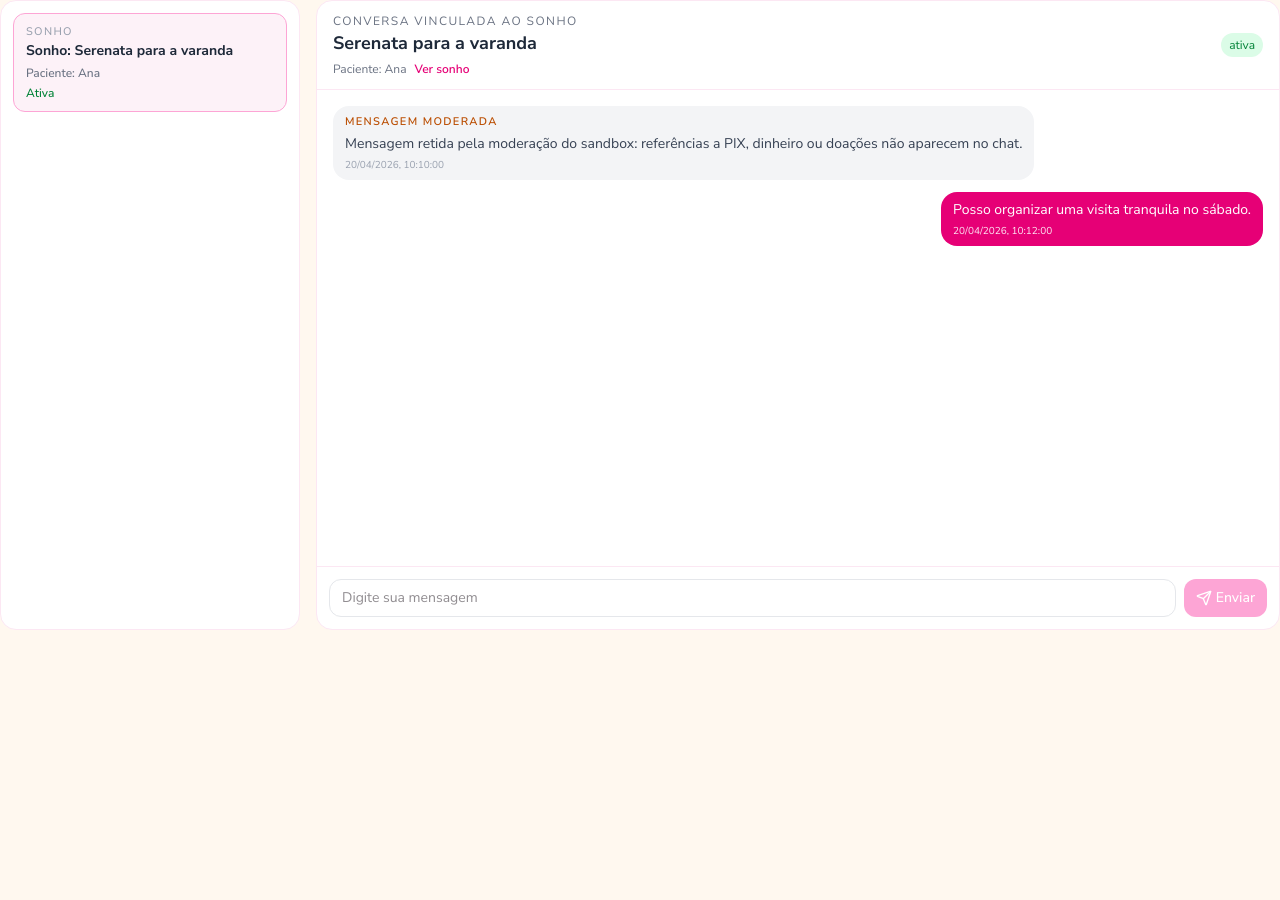
Scenario: ConversationChat › blocks financial language before sending and shows a clear sandbox warning
Check: the heading "Serenata para a varanda" is shown, box 333,31 -> 537,55
Step 1. Type "Posso fazer um PIX para agilizar tudo." into the field with placeholder "Digite sua mensagem" → (752, 598), box 329,579 -> 1176,617
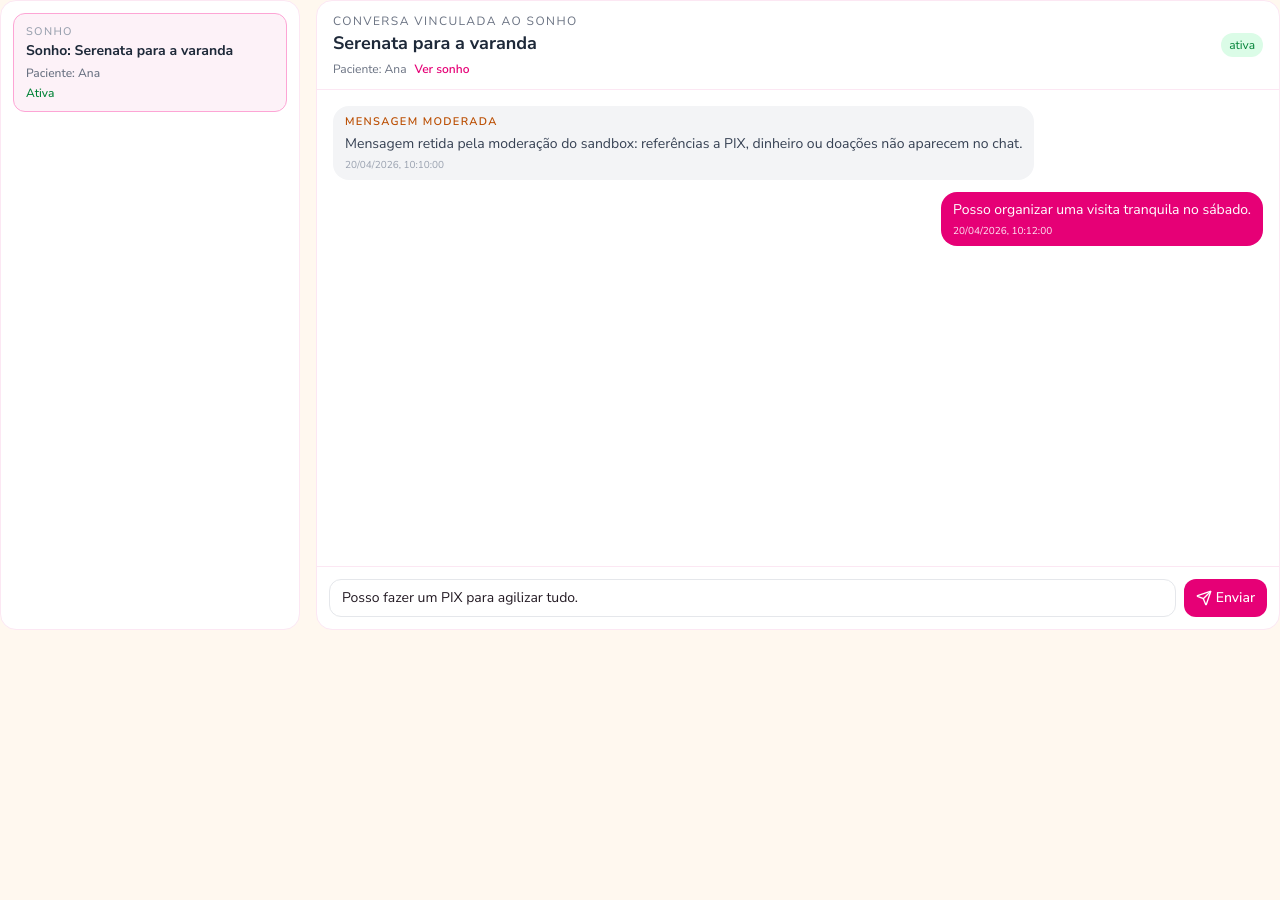
Step 2. Click the button "Enviar" → (1225, 598), box 1184,579 -> 1267,617
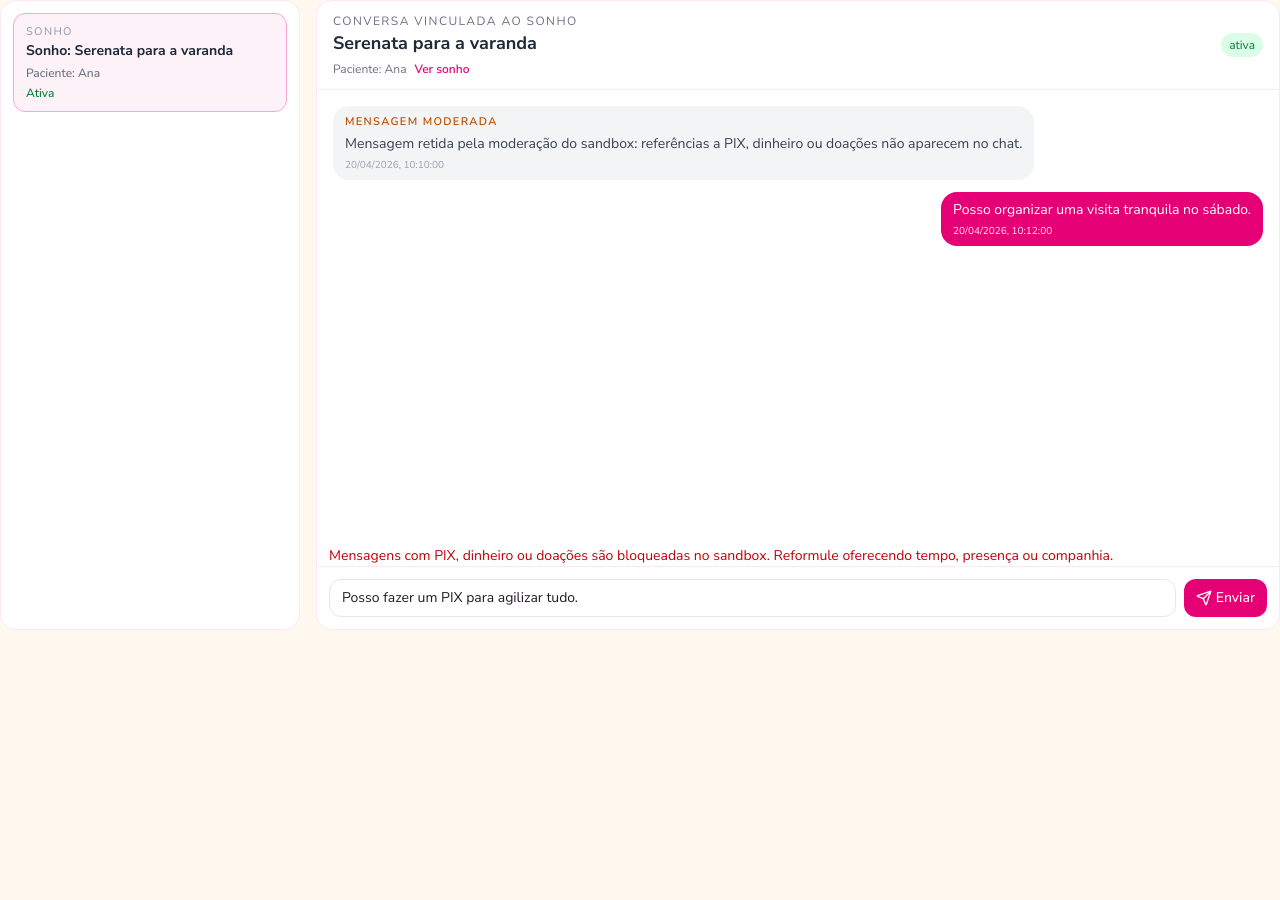
Check: the text "Mensagens com PIX, dinheiro ou doações são bloqueadas no sandbox" is shown, box 329,546 -> 1113,565
